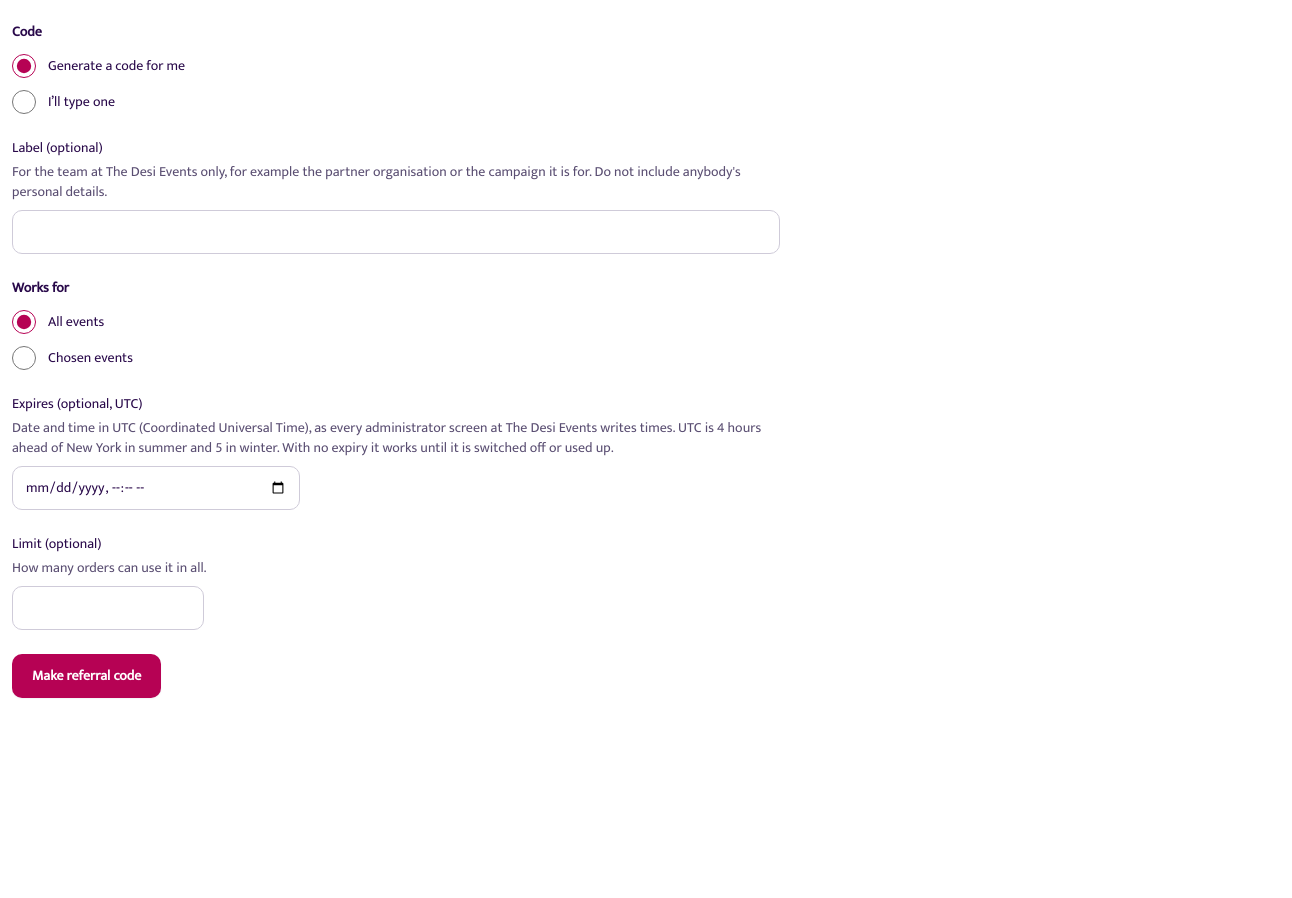
Test: making a referral code › makes one code when the prompt is confirmed by click, and shows that one
In the field labelled "Label (optional)": (396, 232) [12,210,780,254], type "Rangoli partners"
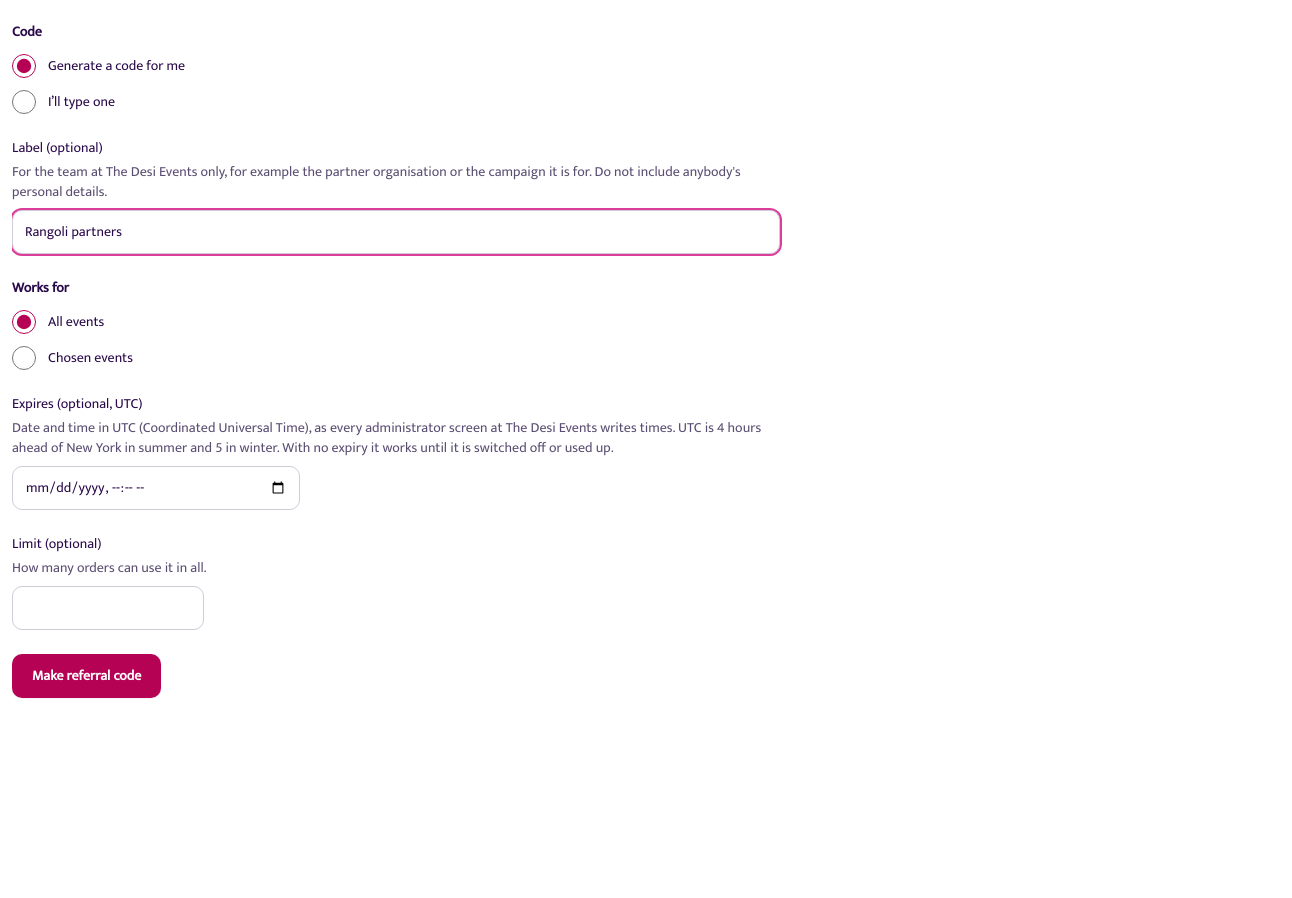
Click the button "Make referral code": (87, 676) [12,654,161,698]
(page scrolled)
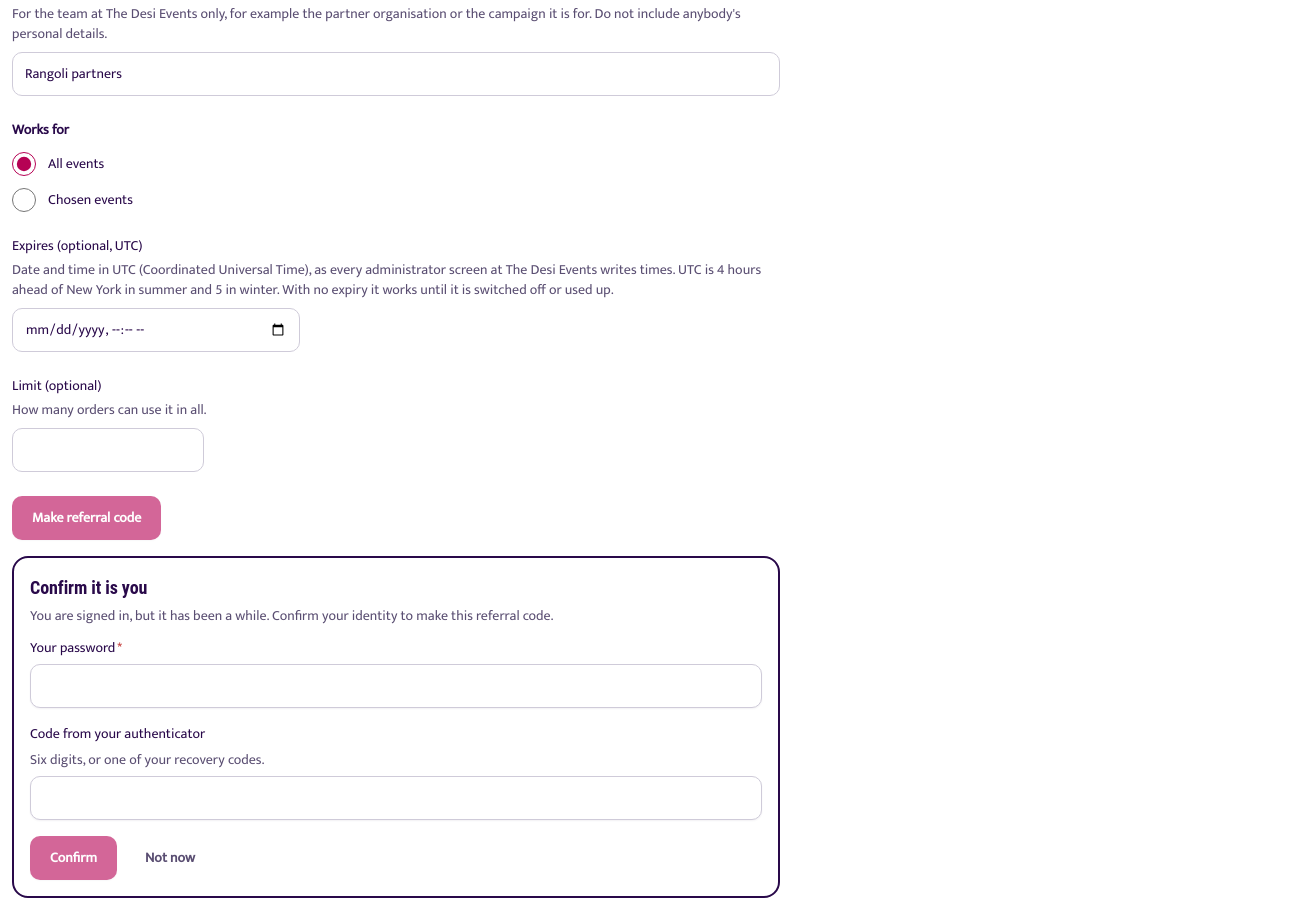
In the password field labelled "Your password*": (396, 686) [30,664,762,708], type "correct horse"
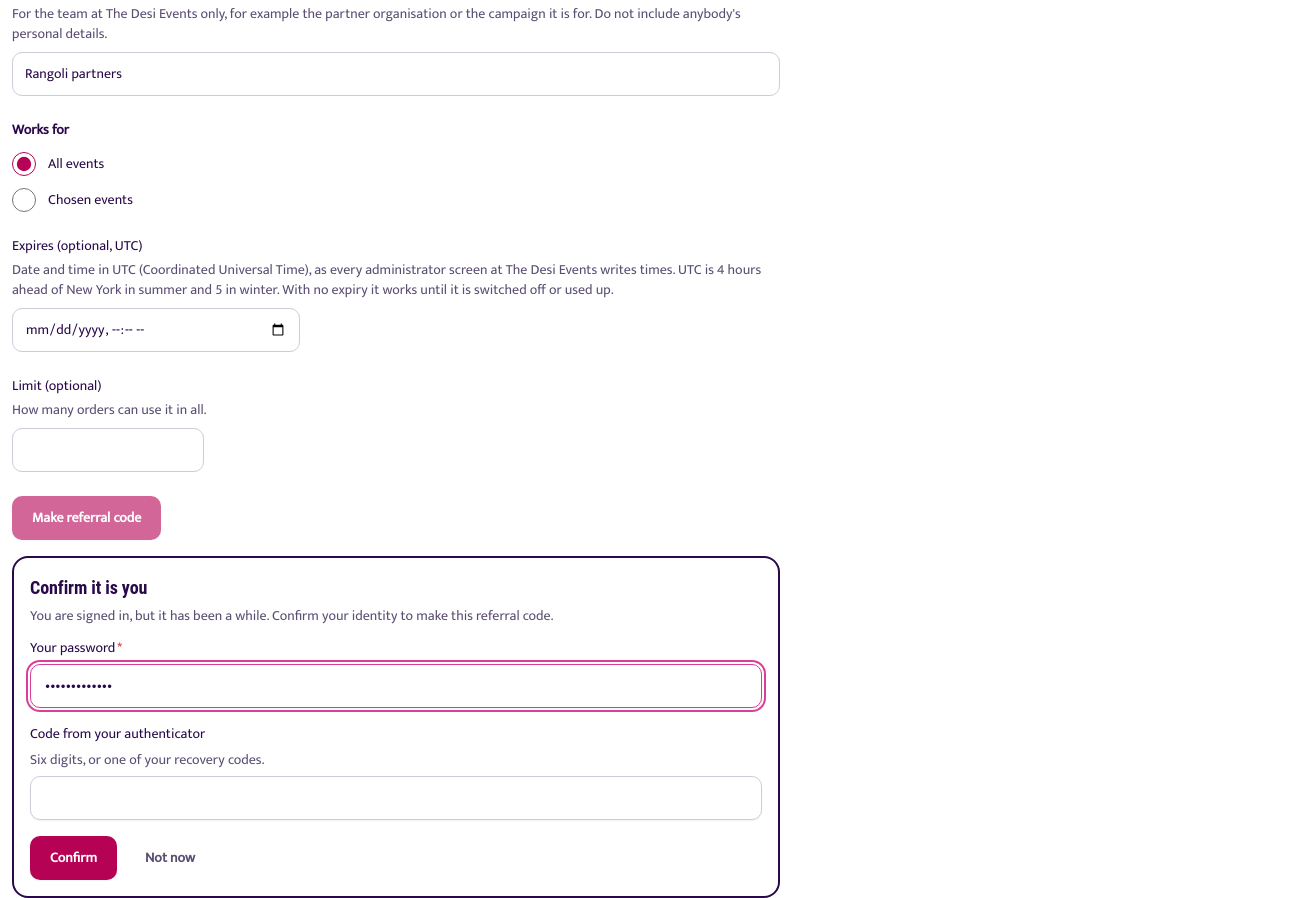
Click the button "Confirm": (73, 858) [30,836,117,880]
(page scrolled)
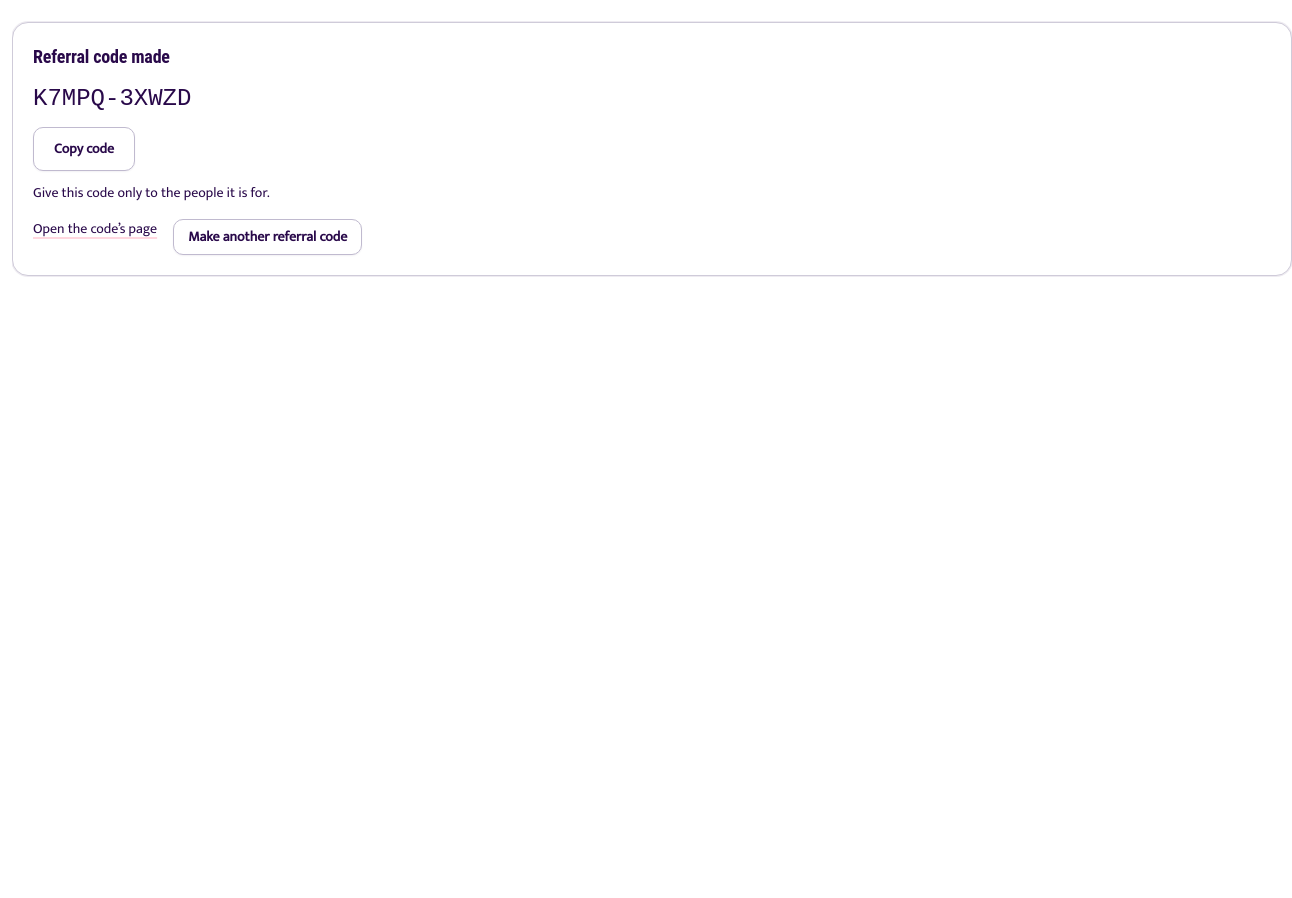
Now the heading "Referral code made" is shown, box [33,46,170,67]
Now the text "K7MPQ-3XWZD" is shown, box [33,85,191,112]
